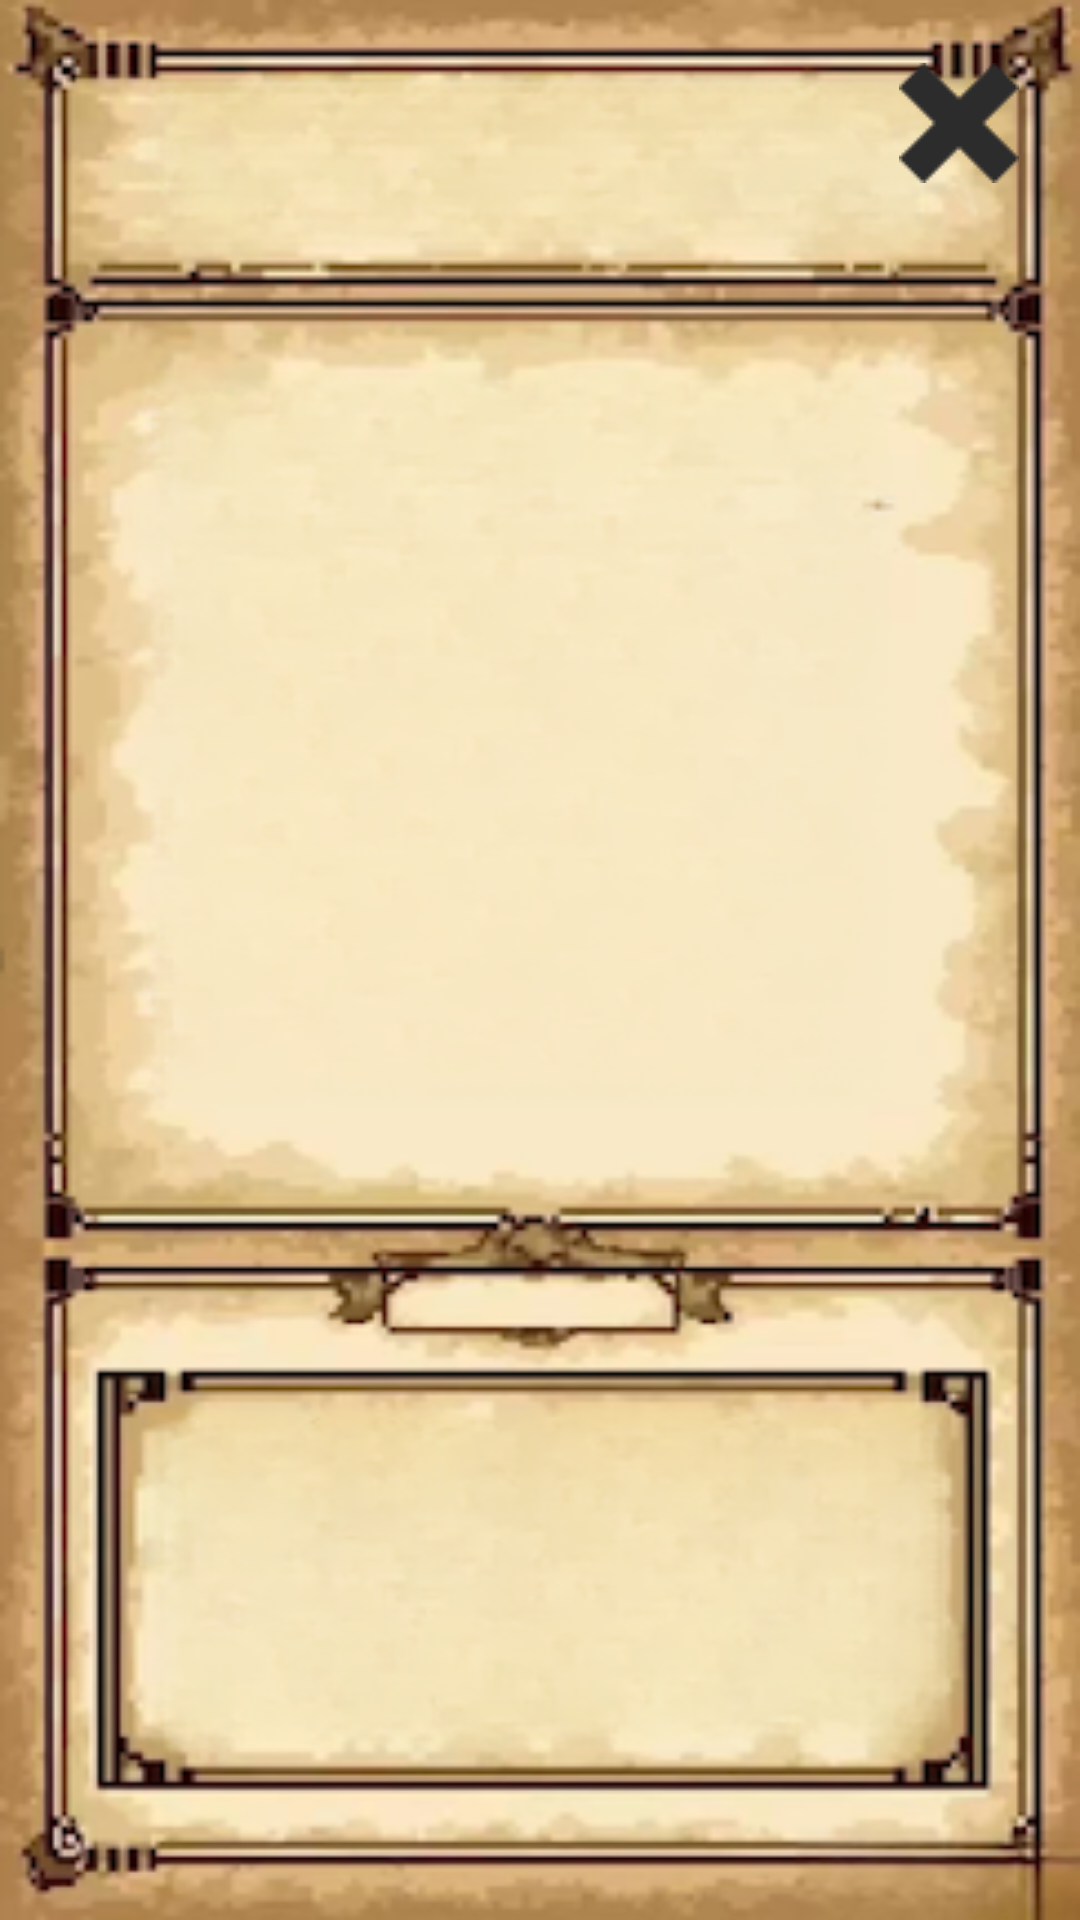

Screen size 1080 × 1920. Icon name, then its center in pixels as (x=x, y=y):
Close: (x=958, y=123)
